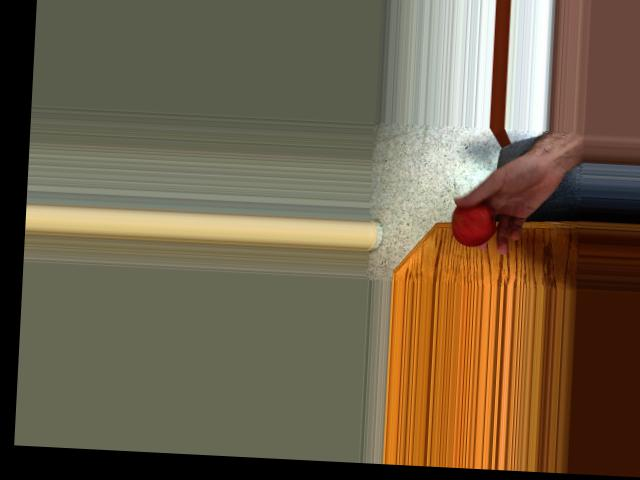apple: (449, 194, 505, 248)
